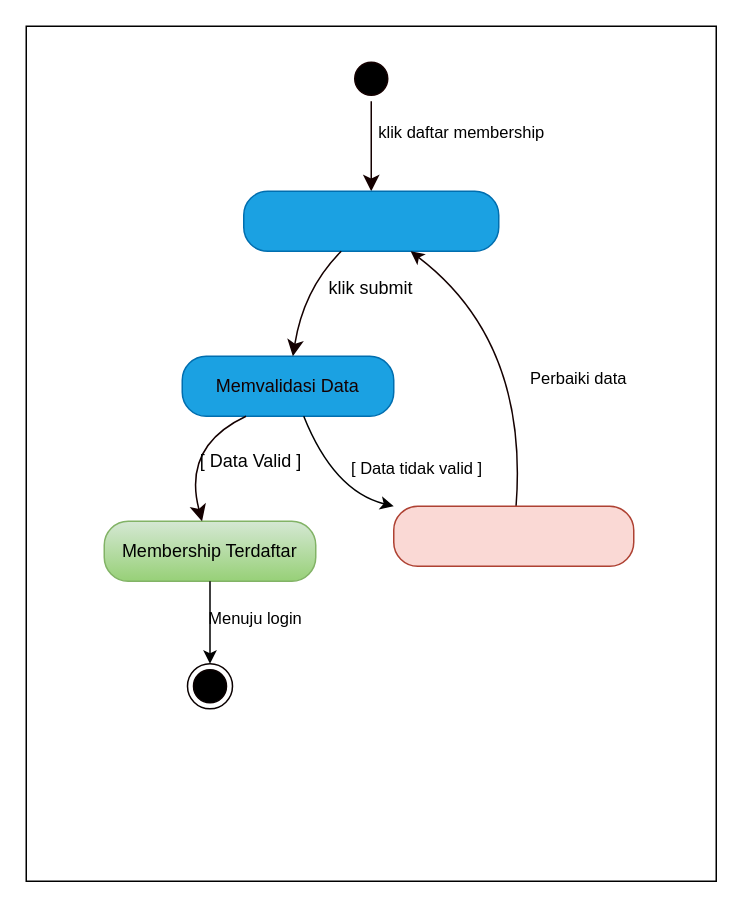
Image size: 743x908. Some labels were removed from this diagram. The centre of each missing label's shape, as x and y in pixels:
Form Pendaftaran: (370,220)
Pendaftaran gagal: (513,535)
